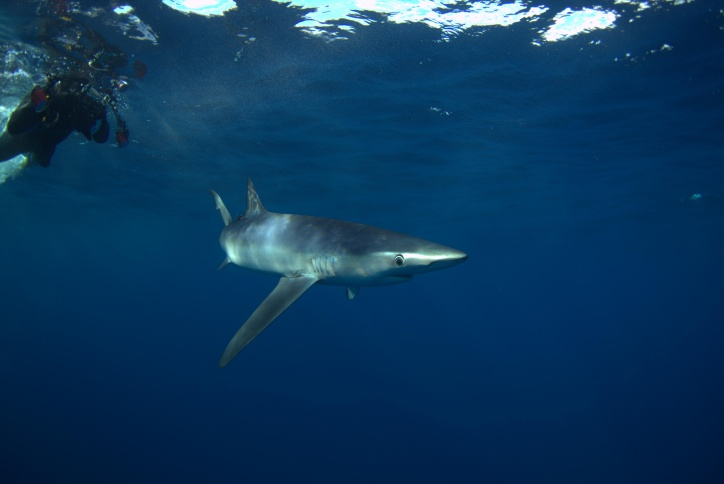Azul: (182, 174, 480, 386)
